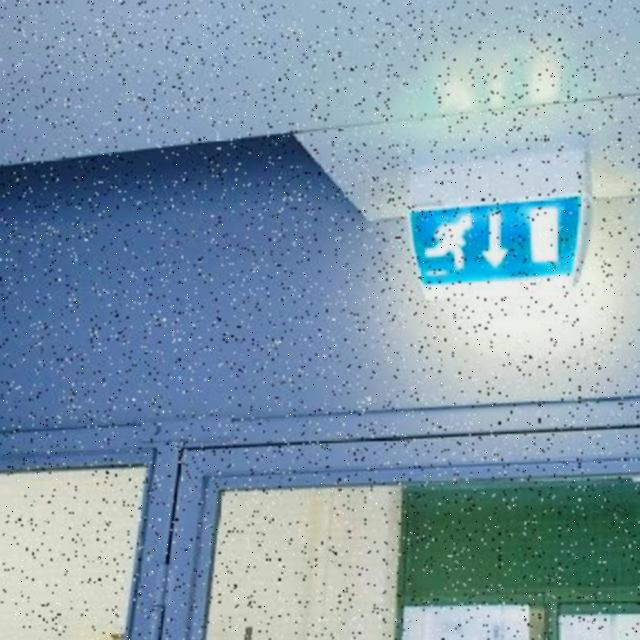emergency_exit: (407, 192, 584, 288)
